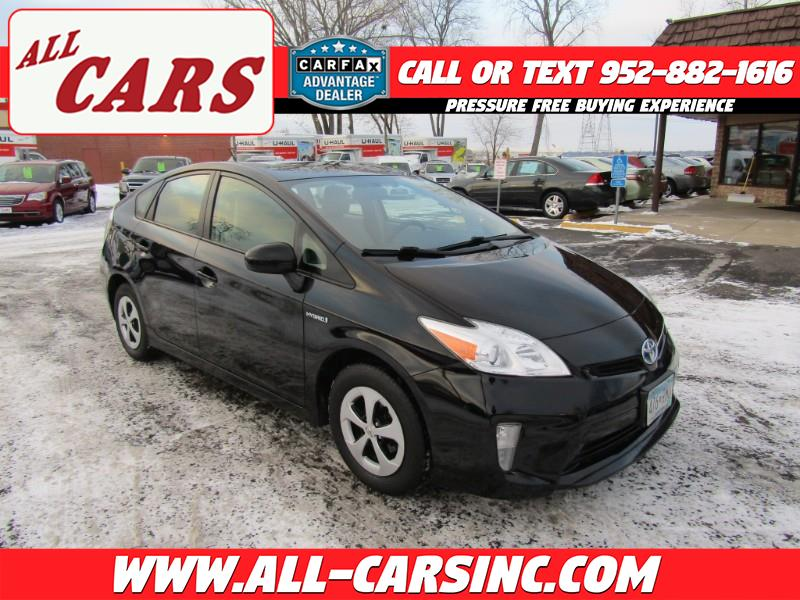Toyota Prius: (97, 160, 682, 498)
